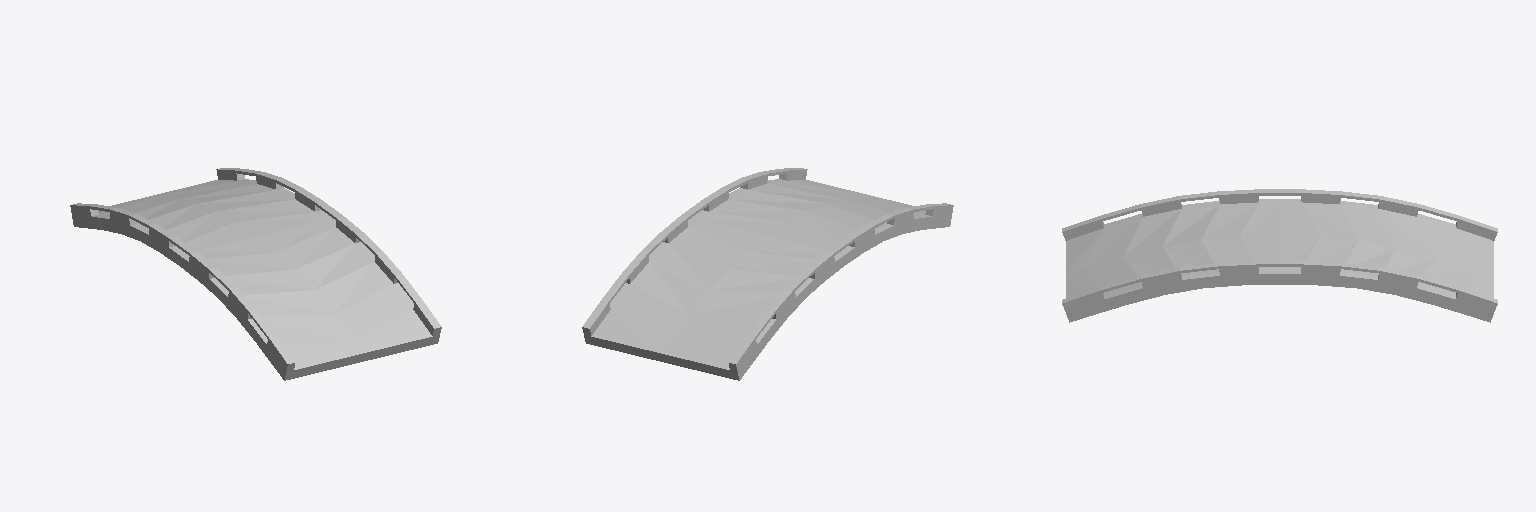
The model's file is bridge_new.obj.
The picture shows the model from 3 angles: view 1: azimuth 30°, elevation 25°; view 2: azimuth 150°, elevation 25°; view 3: azimuth 270°, elevation 25°; orthographic projection.
Parts seen in each view (by area): view 1: bridge_new; view 2: bridge_new; view 3: bridge_new.
Boxes of the visible parts, box(x1,y1,x2,y2) form: bridge_new: box(70, 168, 441, 380); bridge_new: box(582, 168, 953, 380); bridge_new: box(1062, 189, 1497, 322).
Size of the model in its own units: 14.93 by 5.41 by 36.6.